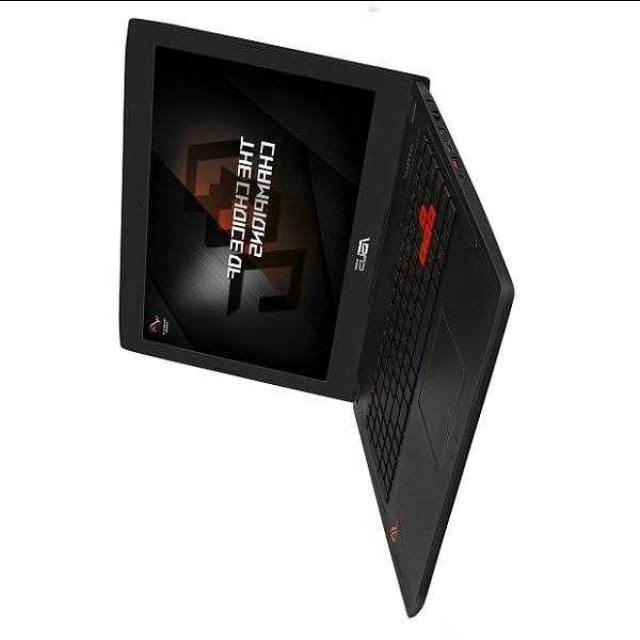laptop: (101, 15, 520, 636)
